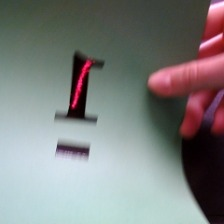green1: (46, 42, 118, 165)
